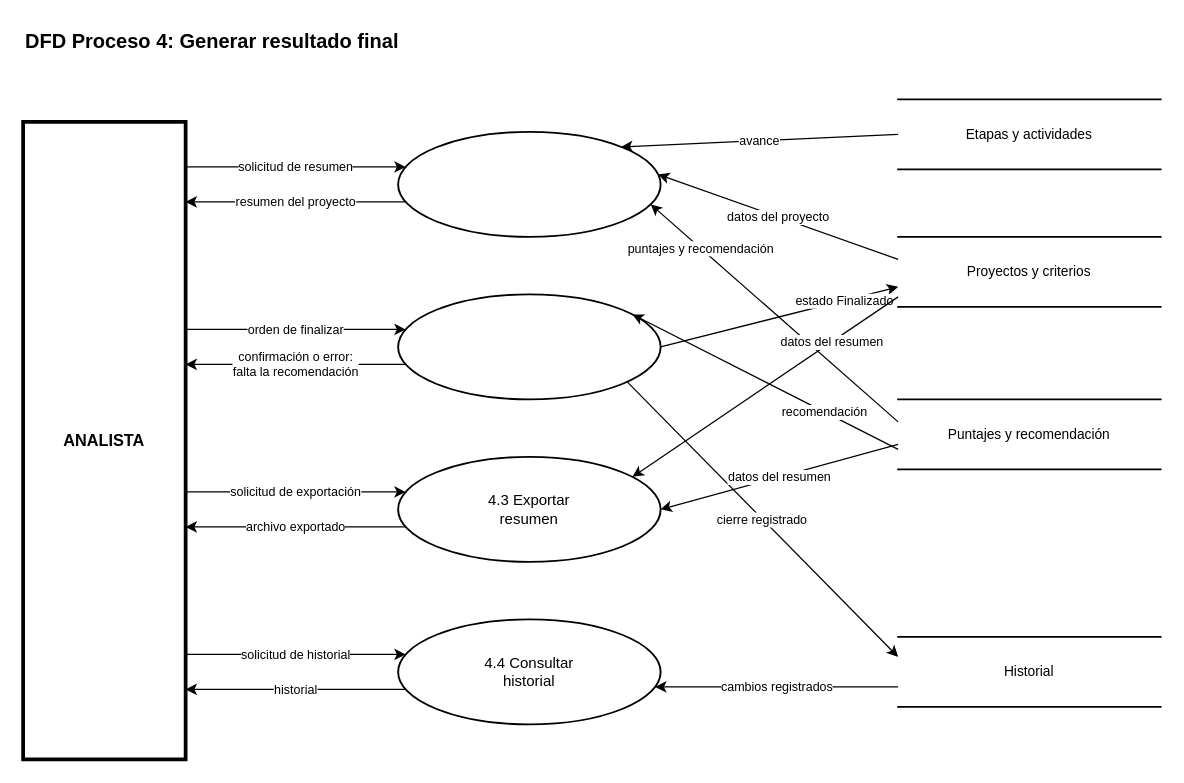
Some shapes in this 1184 by 783 pixel diagram are drawn without their labels. Each missing label, with the centre of its shape:
"4.1 Mostrar pantalla resumen" belongs at (529,183).
"4.2 Finalizar proyecto" belongs at (529,346).
